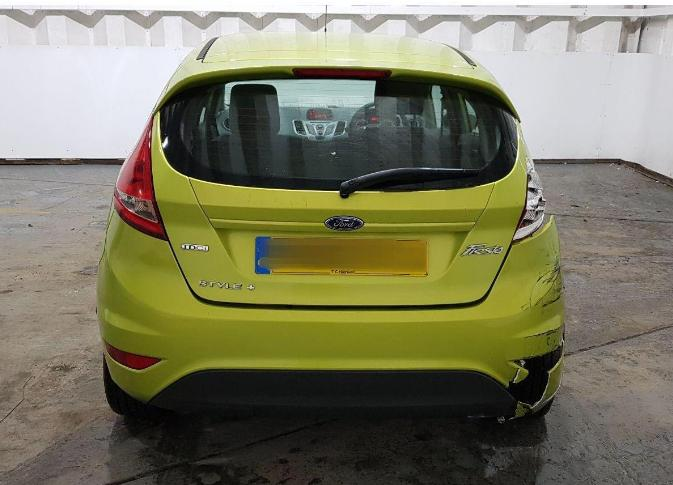Back-bumper: (93, 210, 566, 423)
Back-wheel: (103, 359, 158, 418)
Back-windshield: (160, 79, 517, 192)
License-plate: (254, 237, 429, 276)
Roof: (203, 31, 472, 68)
Tail-light: (114, 117, 170, 242)
Trunk: (150, 58, 528, 307), (159, 79, 518, 199)
